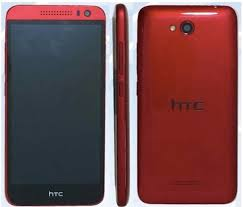htc: (136, 1, 239, 207), (3, 1, 106, 206)
